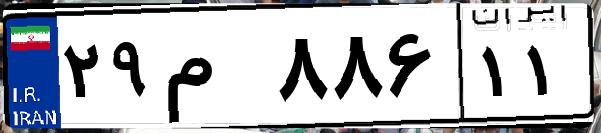1: (475, 38, 525, 113), (525, 38, 570, 115)
2: (57, 26, 110, 100)
6: (385, 28, 445, 110)
8: (270, 28, 330, 110), (330, 28, 385, 110)
9: (110, 28, 158, 98)
م: (158, 20, 270, 120)
